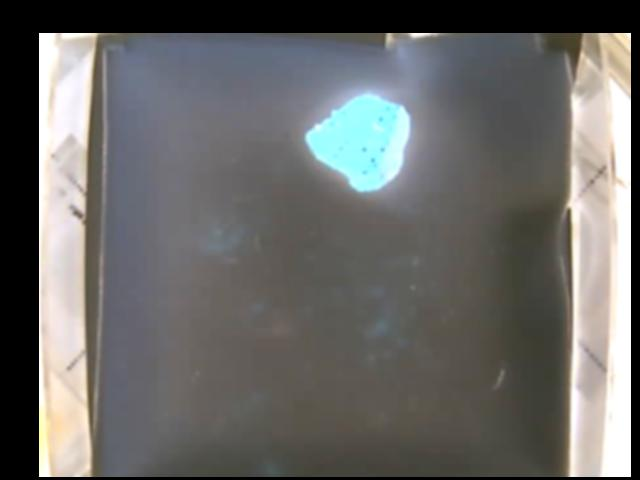Brisk: (307, 92, 409, 197)
